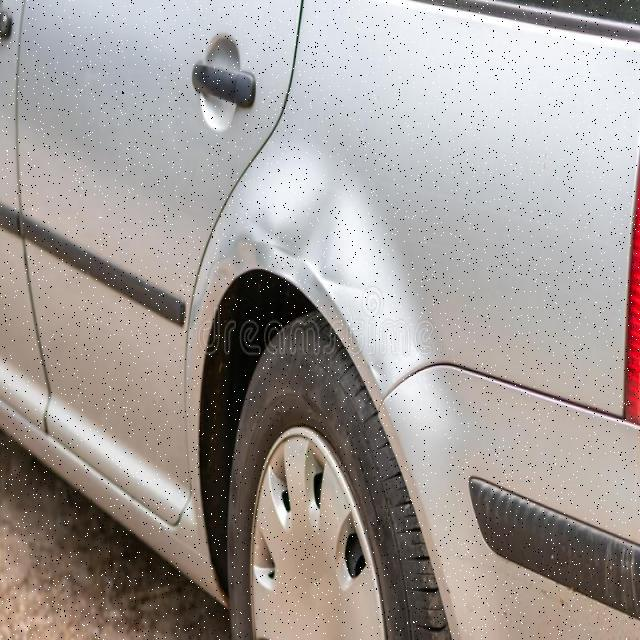quaterpanel-dent: (226, 28, 640, 432)
